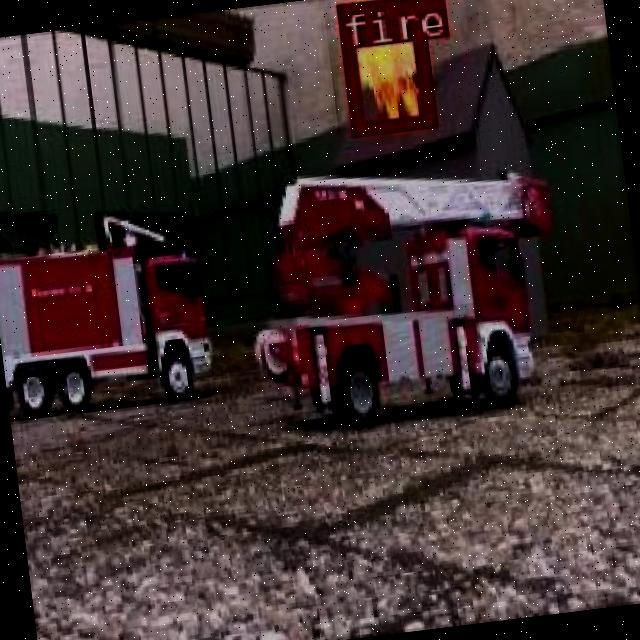fire: (332, 0, 433, 133)
